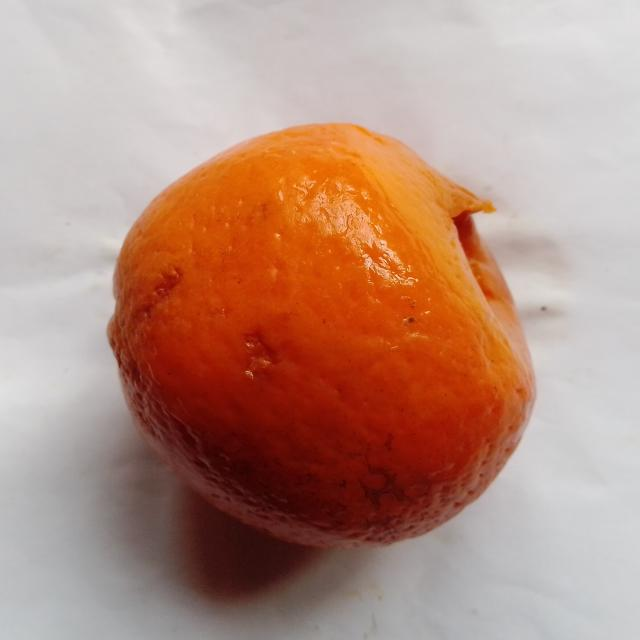orange: (109, 125, 534, 547)
